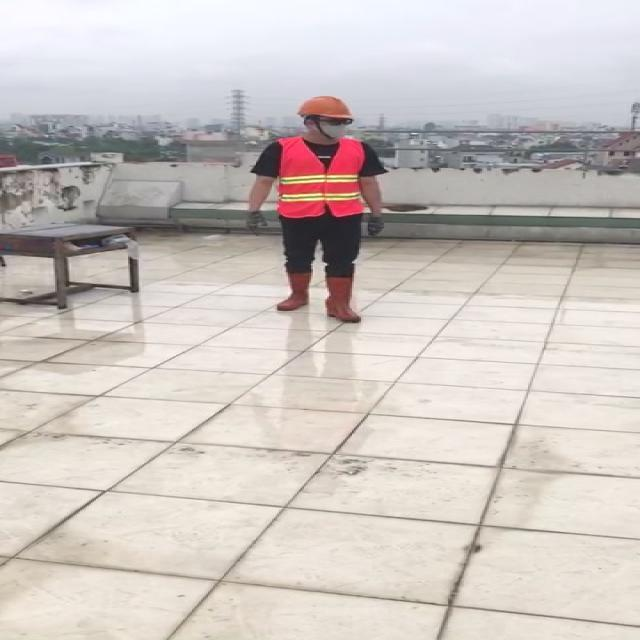boots: (325, 277, 359, 323), (276, 273, 310, 311)
gloves: (220, 198, 286, 240), (346, 210, 404, 248)
helmet: (295, 94, 356, 120)
vest: (279, 138, 366, 216)
